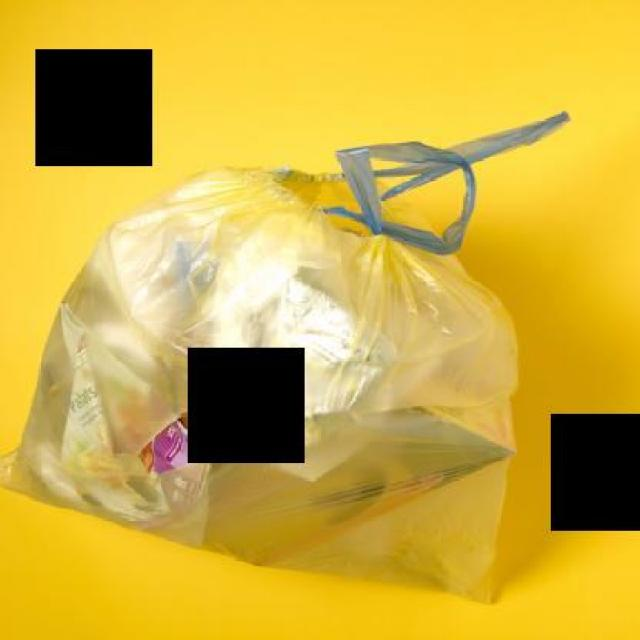plastic bag: (0, 110, 568, 604)
